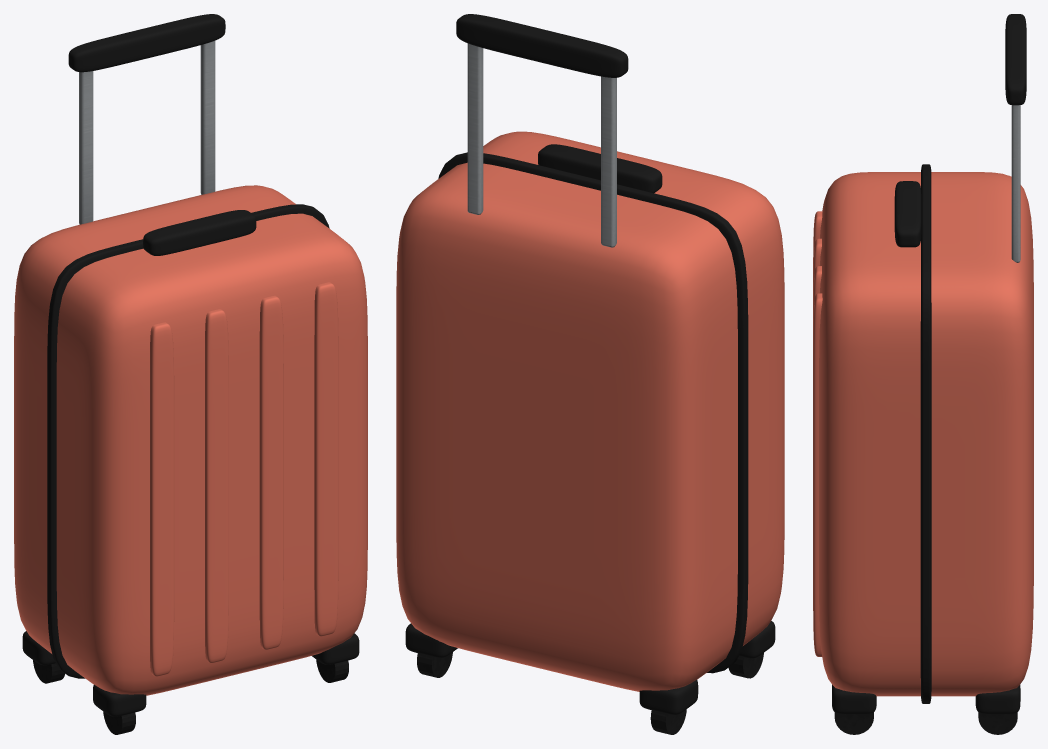
Rendered from hard-coral-cabin.glb.
3 renders of one model, left to right at view 1: azimuth 30°, elevation 25°; view 2: azimuth 150°, elevation 25°; view 3: azimuth 270°, elevation 25°, orthographic. The views are drawn at different scales.
Parts seen in each view (by area): view 1: paint_primary_shell, trim_black, zip_black, aluminium, rubber; view 2: paint_primary_shell, trim_black, zip_black, aluminium, rubber; view 3: paint_primary_shell, zip_black, trim_black, aluminium, rubber.
Part boxes in pixels (<box>): paint_primary_shell: <box>14,185,367,695</box>; trim_black: <box>22,14,359,716</box>; zip_black: <box>47,204,329,678</box>; aluminium: <box>79,40,215,224</box>; rubber: <box>33,659,348,734</box>; paint_primary_shell: <box>396,131,784,691</box>; trim_black: <box>405,14,775,714</box>; zip_black: <box>438,152,748,673</box>; aluminium: <box>467,43,616,247</box>; rubber: <box>417,652,763,734</box>; paint_primary_shell: <box>813,172,1033,696</box>; zip_black: <box>920,164,931,703</box>; trim_black: <box>832,14,1026,713</box>; aluminium: <box>1011,105,1020,262</box>; rubber: <box>834,712,1017,734</box>.
Bounding box in the file's own units: 0.374 × 0.775 × 0.246.
5 materials, 2 textured.
